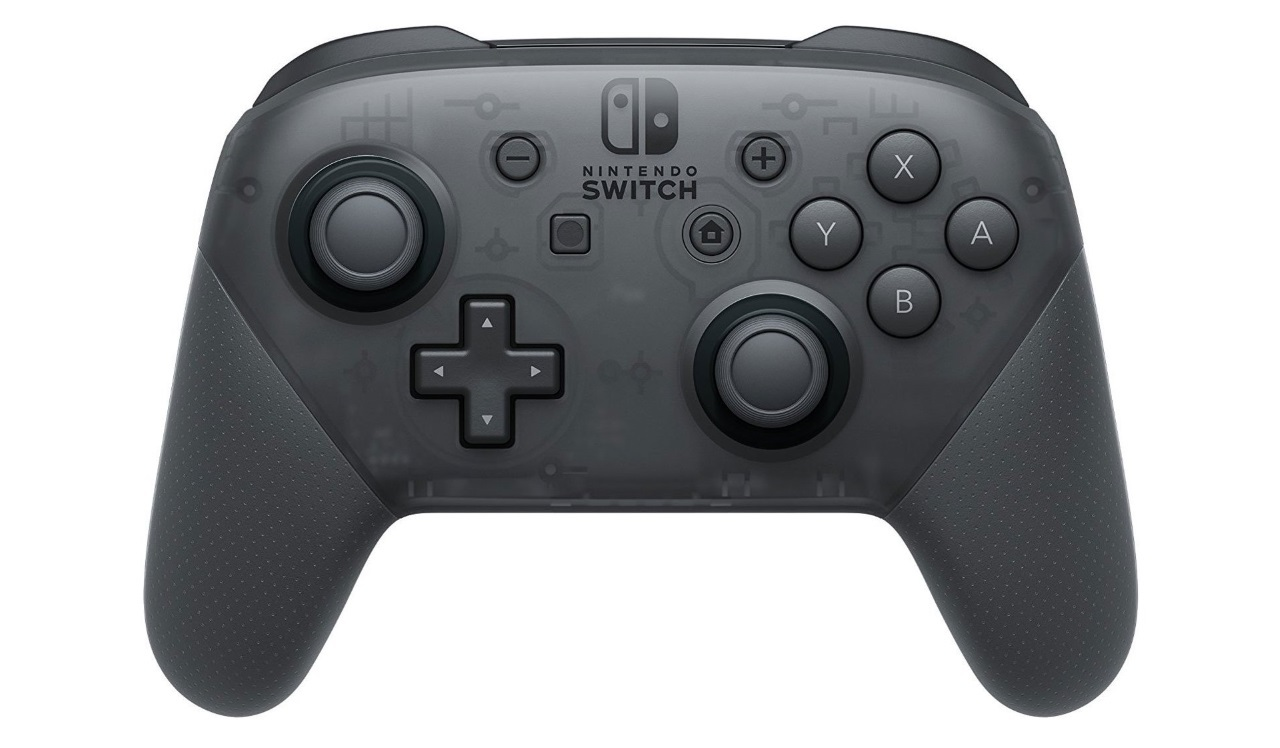controller: (144, 24, 1141, 718)
